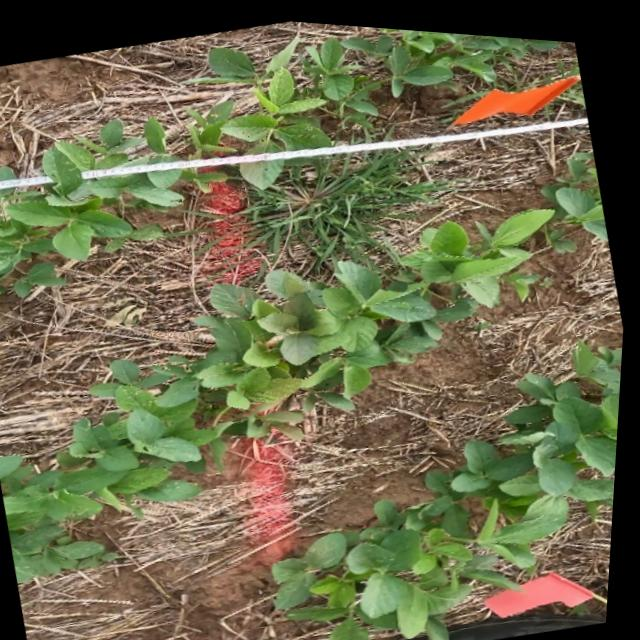grassy_weed: (244, 142, 452, 263)
soy_plant: (2, 201, 554, 579), (0, 22, 524, 295), (279, 333, 626, 640), (543, 142, 610, 230)
